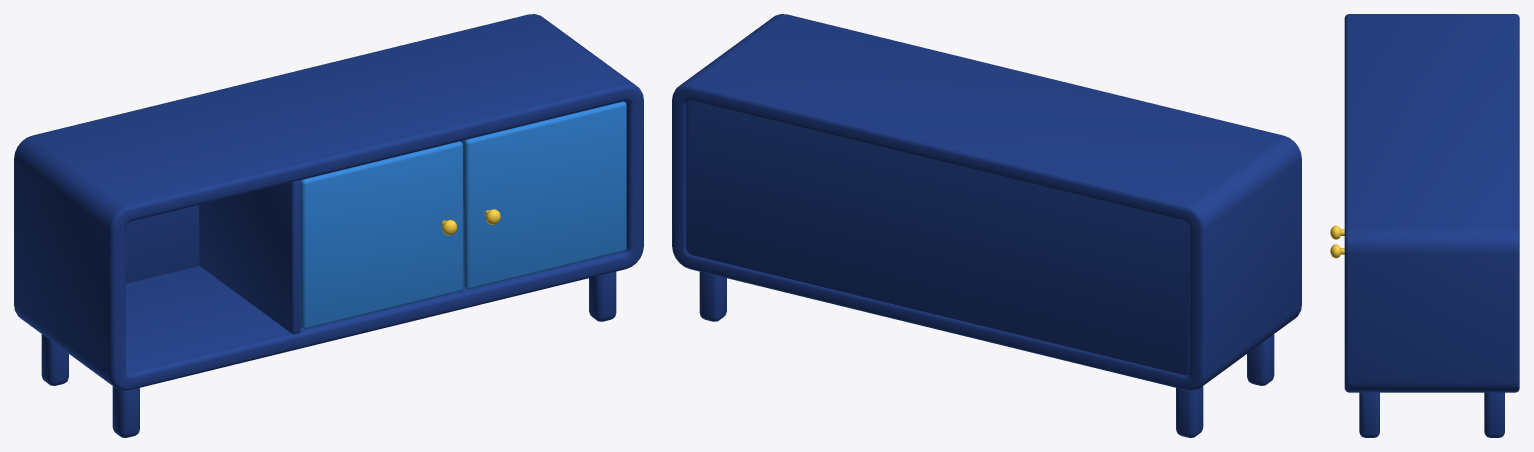
File: rack_pes_2portas_azul.glb
3 views of the same model, side by side, from view 1: azimuth 30°, elevation 25°; view 2: azimuth 150°, elevation 25°; view 3: azimuth 270°, elevation 25° (orthographic). The views are drawn at different scales.
Visible parts, largest first — view 1: rack_pes_2portas_azul, porta_2, porta_1; view 2: rack_pes_2portas_azul; view 3: rack_pes_2portas_azul.
Part boxes in pixels (x1,y1,x2,y2): rack_pes_2portas_azul: (14,14,643,437); porta_2: (463,101,626,289); porta_1: (300,141,462,329); rack_pes_2portas_azul: (672,14,1301,437); rack_pes_2portas_azul: (1344,14,1519,437).
Size of the model in its own units: 1.3 by 0.56 by 0.4546.
1 material, 1 textured.
